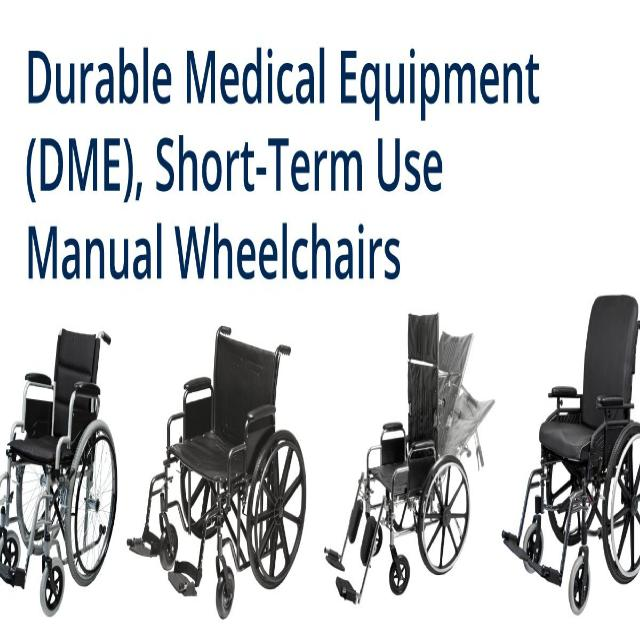wheelchairs: (124, 320, 307, 628), (502, 292, 640, 620), (2, 320, 122, 634)
